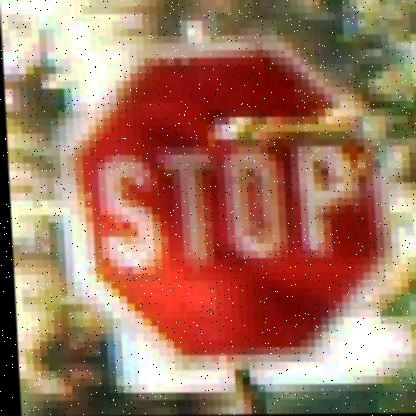Stop Sign: (55, 32, 410, 373)
